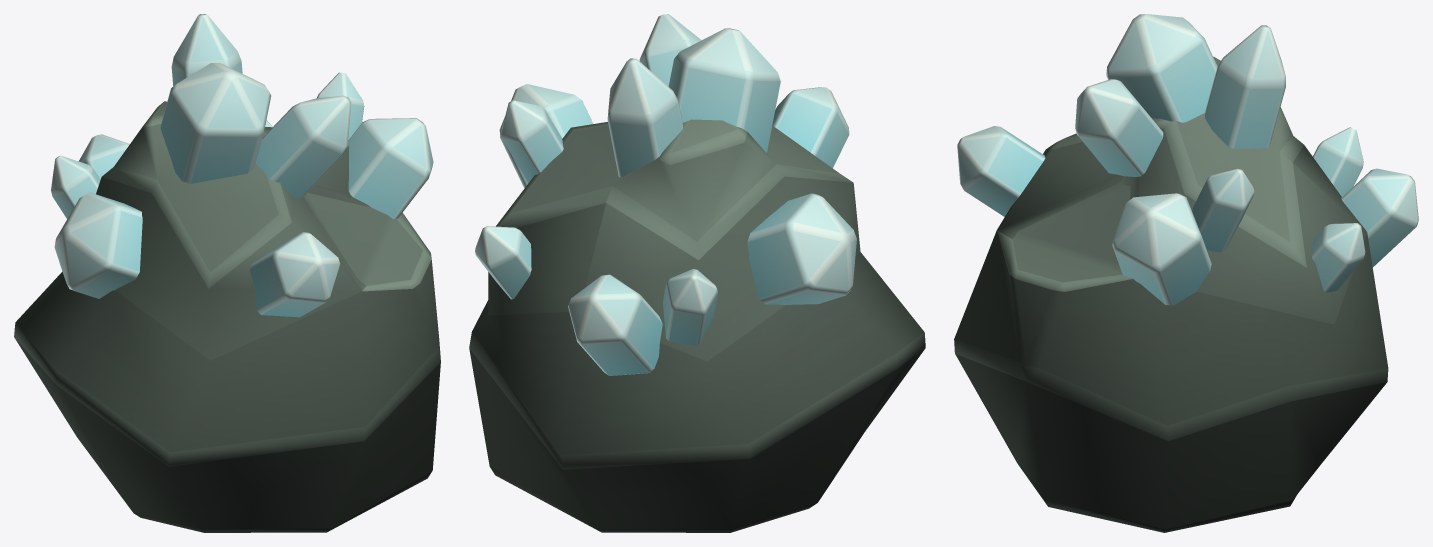
Rendered from ore_christal_diamond_L.fbx.
The picture shows the model from 3 angles, left to right: view 1: azimuth 30°, elevation 25°; view 2: azimuth 150°, elevation 25°; view 3: azimuth 270°, elevation 25°; orthographic projection. The views are drawn at different scales.
Visible parts, largest first — view 1: ore_christal_diamond_L; view 2: ore_christal_diamond_L; view 3: ore_christal_diamond_L.
Part boxes in pixels (left/top/right/bottom): ore_christal_diamond_L: left=14, top=14, right=440, bottom=532; ore_christal_diamond_L: left=469, top=14, right=925, bottom=532; ore_christal_diamond_L: left=954, top=14, right=1418, bottom=532.
Size of the model in its own units: 211 by 252 by 218.
Materials: 1 (1 with a texture image).
